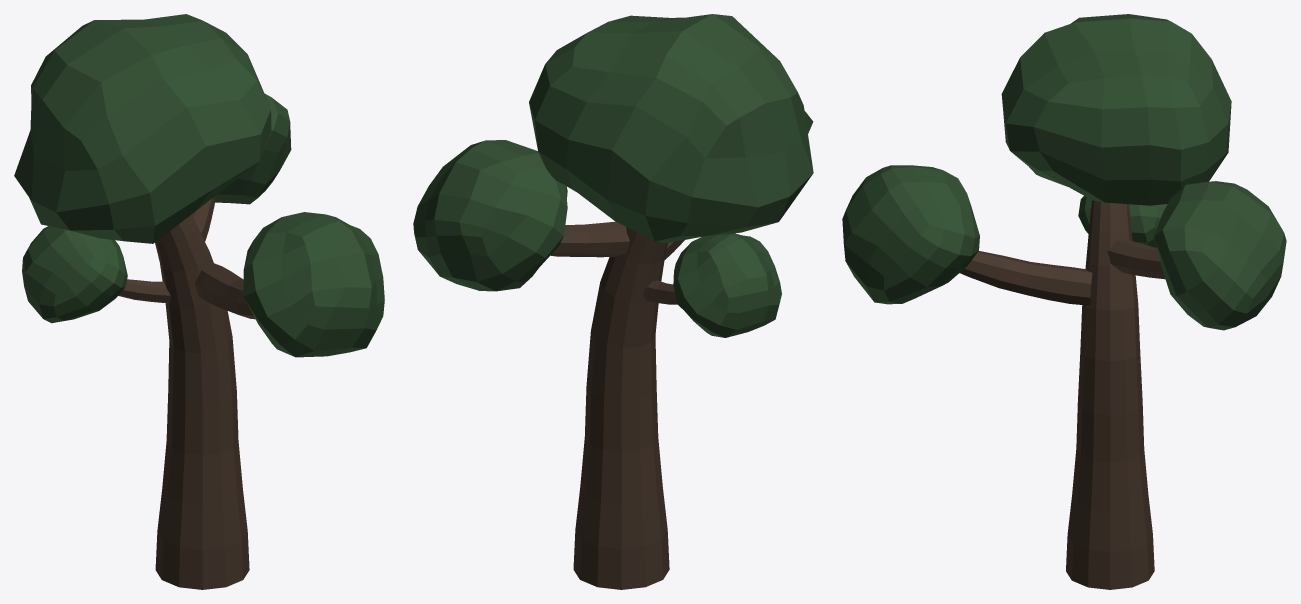
File: Tree3.fbx
3 views of the same model, side by side, from view 1: azimuth 30°, elevation 25°; view 2: azimuth 150°, elevation 25°; view 3: azimuth 270°, elevation 25° (orthographic). The views are drawn at different scales.
Visible parts, largest first — view 1: Tree4; view 2: Tree4; view 3: Tree4.
Part boxes in pixels (x1=…): Tree4: x1=14, y1=14, x2=384, y2=589; Tree4: x1=413, y1=14, x2=813, y2=589; Tree4: x1=842, y1=14, x2=1286, y2=589.
Bounding box in the file's own units: 119 × 205 × 158.
